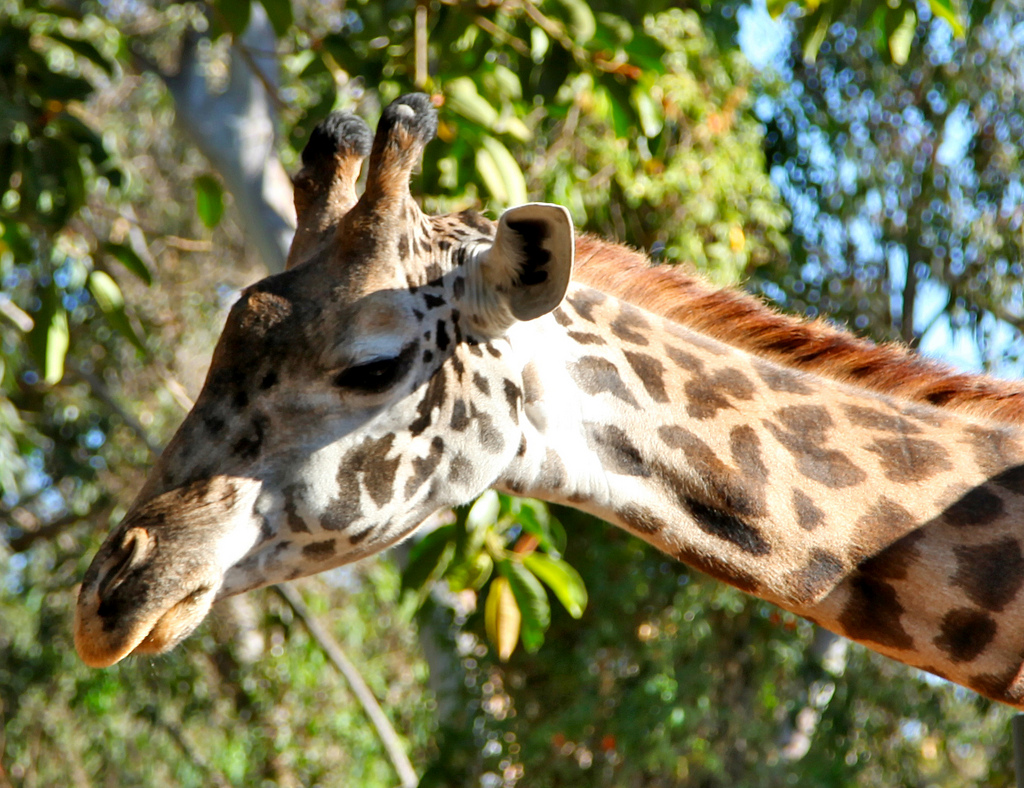giraffe: (67, 90, 1009, 723)
